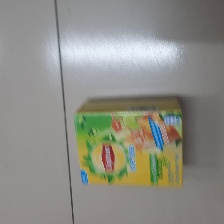LipTon: (75, 97, 186, 188)
